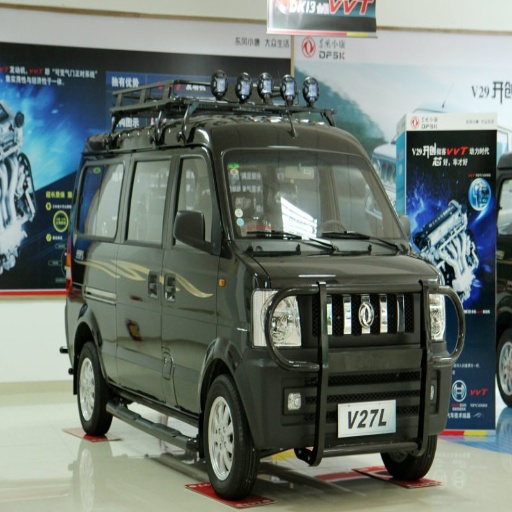back_right_door: (89, 158, 180, 381)
trunk: (282, 340, 420, 431), (221, 127, 322, 196)
